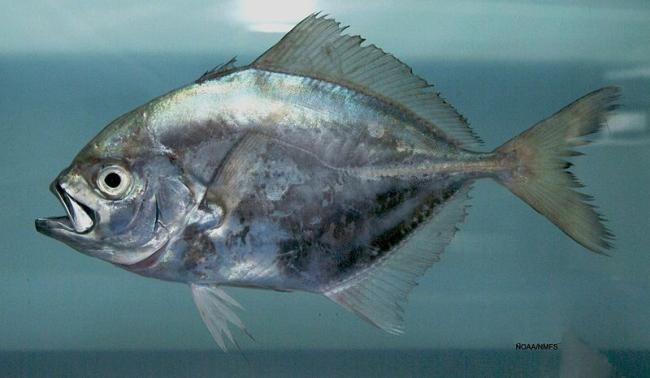fish: (34, 11, 623, 358)
